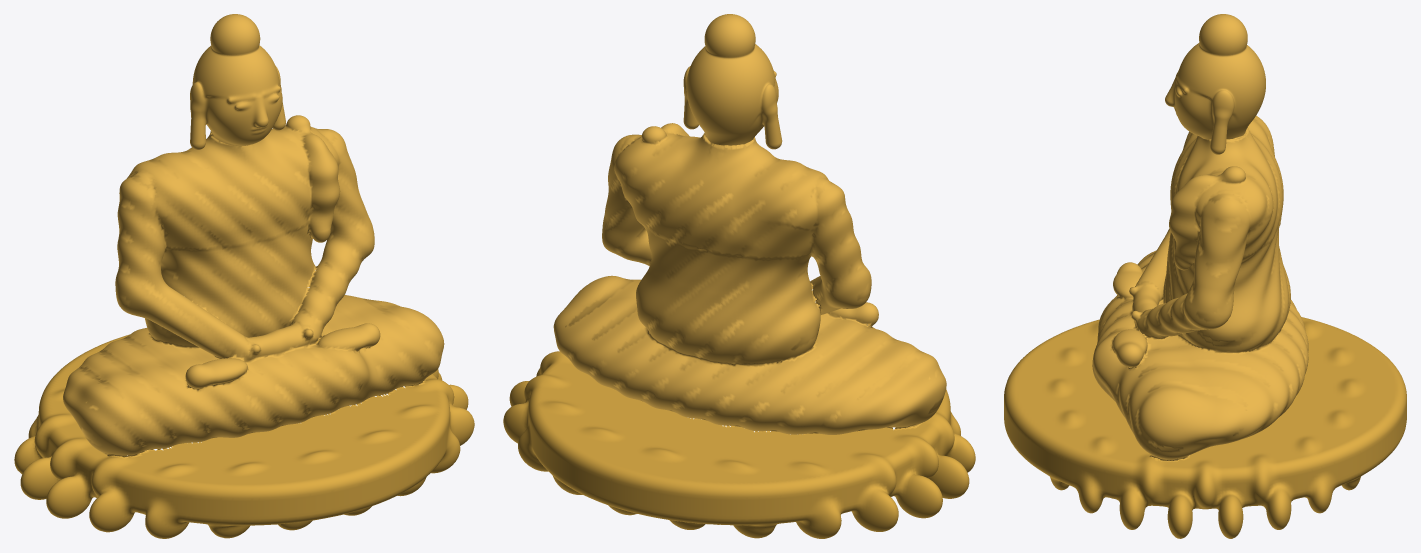
The model's file is tibetan-guru.glb.
The picture shows the model from 3 angles, left to right: view 1: azimuth 30°, elevation 25°; view 2: azimuth 150°, elevation 25°; view 3: azimuth 270°, elevation 25°; orthographic projection. The views are drawn at different scales.
Visible parts, largest first — view 1: statue-tibetan-guru; view 2: statue-tibetan-guru; view 3: statue-tibetan-guru.
Boxes of the visible parts, x1=… form: statue-tibetan-guru: x1=14, y1=14, x2=474, y2=538; statue-tibetan-guru: x1=503, y1=14, x2=975, y2=538; statue-tibetan-guru: x1=1004, y1=14, x2=1406, y2=538.
Bounding box in the file's own units: 1.32 × 1.32 × 1.12.
